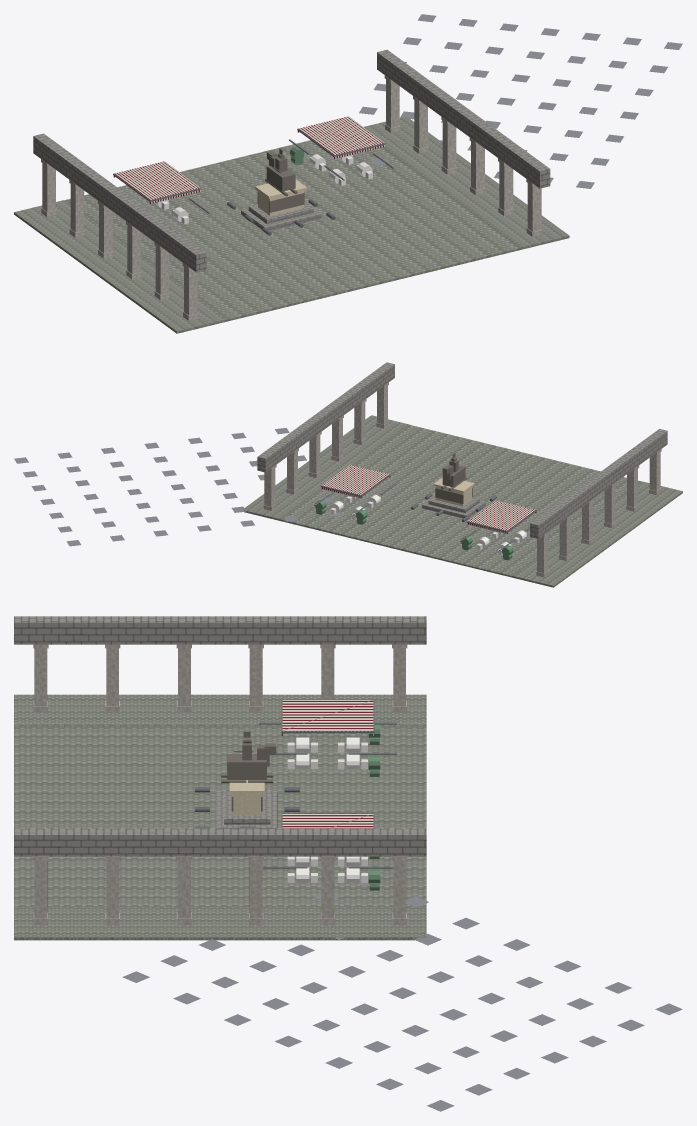
Rendered from turin_piazza_san_carlo.glb.
3 renders of one model, top to bottom at view 1: azimuth 30°, elevation 25°; view 2: azimuth 150°, elevation 25°; view 3: azimuth 270°, elevation 25°, orthographic. The views are drawn at different scales.
Parts seen in each view (by area): view 1: PiazzaLusernaPaving, ColonnadeWalkways, ColonnadeEntablature, ColonnadePillars, DioriteLozenges, DehorsCanopies, BronzeEquestrian, PedestalBavenoPink, DehorsDiningSets, PedestalMarbleWhite, DehorsIronFrames; view 2: PiazzaLusernaPaving, ColonnadeWalkways, ColonnadeEntablature, ColonnadePillars, DioriteLozenges, DehorsCanopies, BronzeEquestrian, DehorsDiningSets, PedestalBavenoPink, LaurelTopiaries, DehorsIronFrames, PedestalMarbleWhite; view 3: PiazzaLusernaPaving, ColonnadeEntablature, ColonnadeWalkways, ColonnadePillars, DioriteLozenges, DehorsCanopies, DehorsDiningSets, BronzeEquestrian, PedestalBavenoPink, DehorsIronFrames, PedestalMarbleWhite, LaurelTopiaries.
Boxes of the visible parts, left/top/right/bottom form: PiazzaLusernaPaving: left=14, top=140, right=569, bottom=333; ColonnadeWalkways: left=14, top=116, right=569, bottom=332; ColonnadeEntablature: left=33, top=49, right=550, bottom=272; ColonnadePillars: left=41, top=75, right=542, bottom=320; DioriteLozenges: left=330, top=14, right=682, bottom=188; DehorsCanopies: left=113, top=116, right=384, bottom=203; BronzeEquestrian: left=257, top=148, right=304, bottom=212; PedestalBavenoPink: left=241, top=202, right=321, bottom=230; DehorsDiningSets: left=134, top=154, right=372, bottom=224; PedestalMarbleWhite: left=255, top=179, right=307, bottom=215; DehorsIronFrames: left=113, top=117, right=393, bottom=213; PiazzaLusernaPaving: left=244, top=425, right=682, bottom=587; ColonnadeWalkways: left=242, top=415, right=682, bottom=586; ColonnadeEntablature: left=257, top=362, right=667, bottom=538; ColonnadePillars: left=263, top=382, right=661, bottom=577; DioriteLozenges: left=14, top=428, right=341, bottom=546; DehorsCanopies: left=321, top=464, right=536, bottom=533; BronzeEquestrian: left=435, top=453, right=472, bottom=503; DehorsDiningSets: left=330, top=494, right=526, bottom=555; PedestalBavenoPink: left=422, top=495, right=485, bottom=518; LaurelTopiaries: left=315, top=500, right=513, bottom=560; DehorsIronFrames: left=314, top=465, right=536, bottom=551; PedestalMarbleWhite: left=433, top=477, right=474, bottom=506; PiazzaLusernaPaving: left=14, top=725, right=426, bottom=940; ColonnadeEntablature: left=14, top=616, right=426, bottom=856; ColonnadeWalkways: left=14, top=694, right=426, bottom=940; ColonnadePillars: left=33, top=644, right=407, bottom=925; DioriteLozenges: left=122, top=876, right=682, bottom=1111; DehorsCanopies: left=281, top=700, right=373, bottom=828; DehorsDiningSets: left=287, top=737, right=367, bottom=883; BronzeEquestrian: left=221, top=731, right=276, bottom=811; PedestalBavenoPink: left=216, top=790, right=277, bottom=828; DehorsIronFrames: left=259, top=700, right=396, bottom=868; PedestalMarbleWhite: left=229, top=780, right=264, bottom=815; LaurelTopiaries: left=368, top=724, right=380, bottom=890.
Bounding box in the file's own units: 54.96 × 5.74 × 37.29.
Materials: 11 (5 with a texture image).
